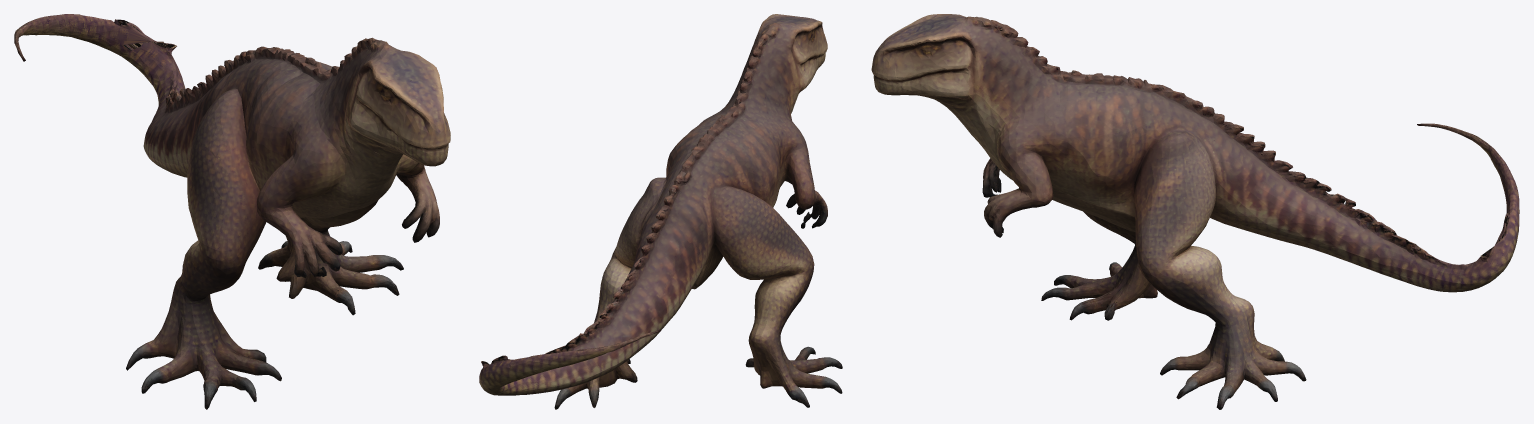
3 views of the same model, side by side, from view 1: azimuth 30°, elevation 25°; view 2: azimuth 150°, elevation 25°; view 3: azimuth 270°, elevation 25° (orthographic). The views are drawn at different scales.
Parts seen in each view (by area): view 1: world; view 2: world; view 3: world.
Boxes of the visible parts, left/top/right/bottom form: world: left=14, top=14, right=450, bottom=409; world: left=479, top=14, right=842, bottom=409; world: left=871, top=14, right=1519, bottom=409.
Bounding box in the file's own units: 0.5092 × 0.5561 × 1.
1 material, 1 textured.
